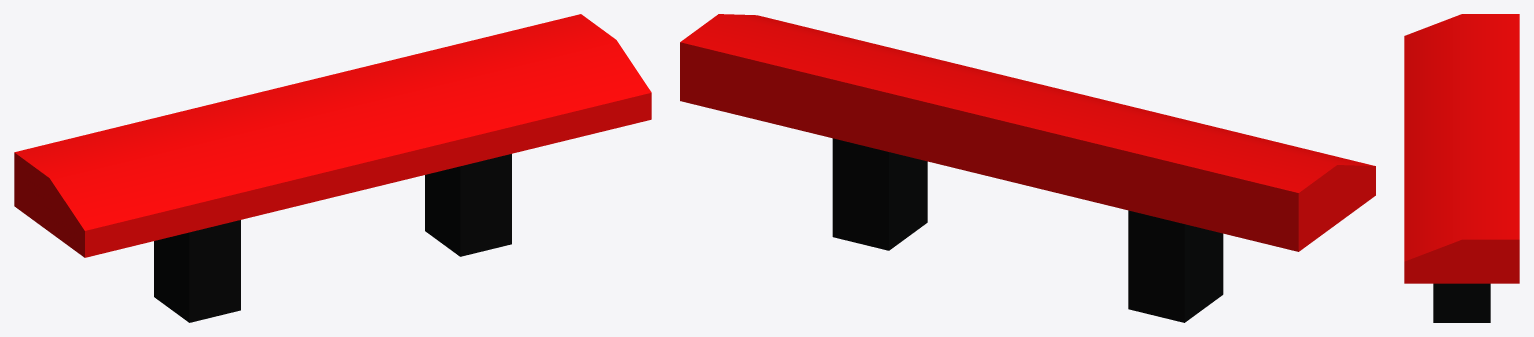
Rendered from debris-spoiler-a.glb.
The picture shows the model from 3 angles, left to right: view 1: azimuth 30°, elevation 25°; view 2: azimuth 150°, elevation 25°; view 3: azimuth 270°, elevation 25°; orthographic projection. The views are drawn at different scales.
Visible parts, largest first — view 1: debris-spoiler-a; view 2: debris-spoiler-a; view 3: debris-spoiler-a.
Part boxes in pixels (bbox=[...]): debris-spoiler-a: bbox=[14, 14, 651, 322]; debris-spoiler-a: bbox=[680, 14, 1375, 322]; debris-spoiler-a: bbox=[1404, 14, 1519, 322].
Size of the model in its own units: 1.1 by 0.2999 by 0.2375.
1 material, 1 textured.
